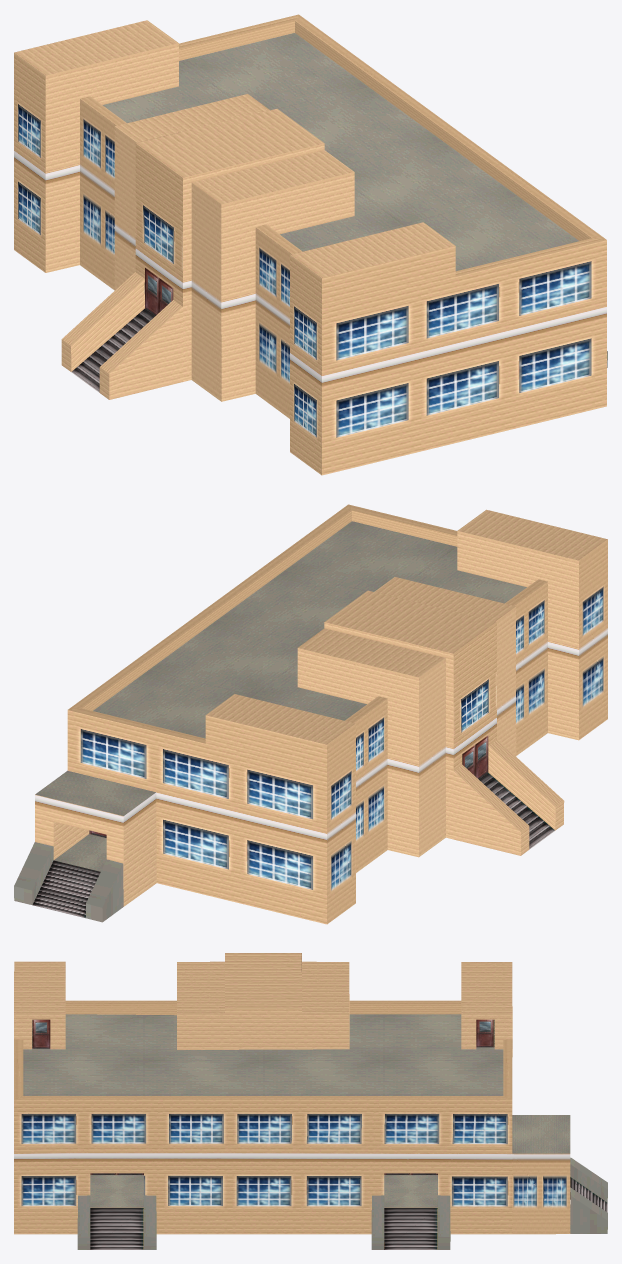
File: school.glb
The picture shows the model from 3 angles, top to bottom: view 1: azimuth 30°, elevation 25°; view 2: azimuth 150°, elevation 25°; view 3: azimuth 270°, elevation 25°; orthographic projection. The views are drawn at different scales.
Parts seen in each view (by area): view 1: school; view 2: school; view 3: school.
Part boxes in pixels (x1,y1,x2,y2): school: (14,14,607,475); school: (14,504,607,924); school: (14,953,607,1249).
Size of the model in its own units: 3488 by 1673 by 5445.
Materials: 4 (4 with a texture image).
